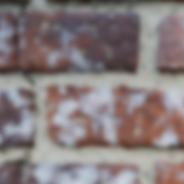brick: (46, 85, 183, 149), (0, 89, 33, 146), (156, 14, 183, 72), (155, 161, 183, 183), (0, 0, 30, 2), (77, 0, 93, 2), (160, 0, 183, 1)
broken_brick: (18, 8, 140, 75), (0, 161, 141, 183), (0, 10, 19, 74)
crack: (0, 2, 38, 181)
